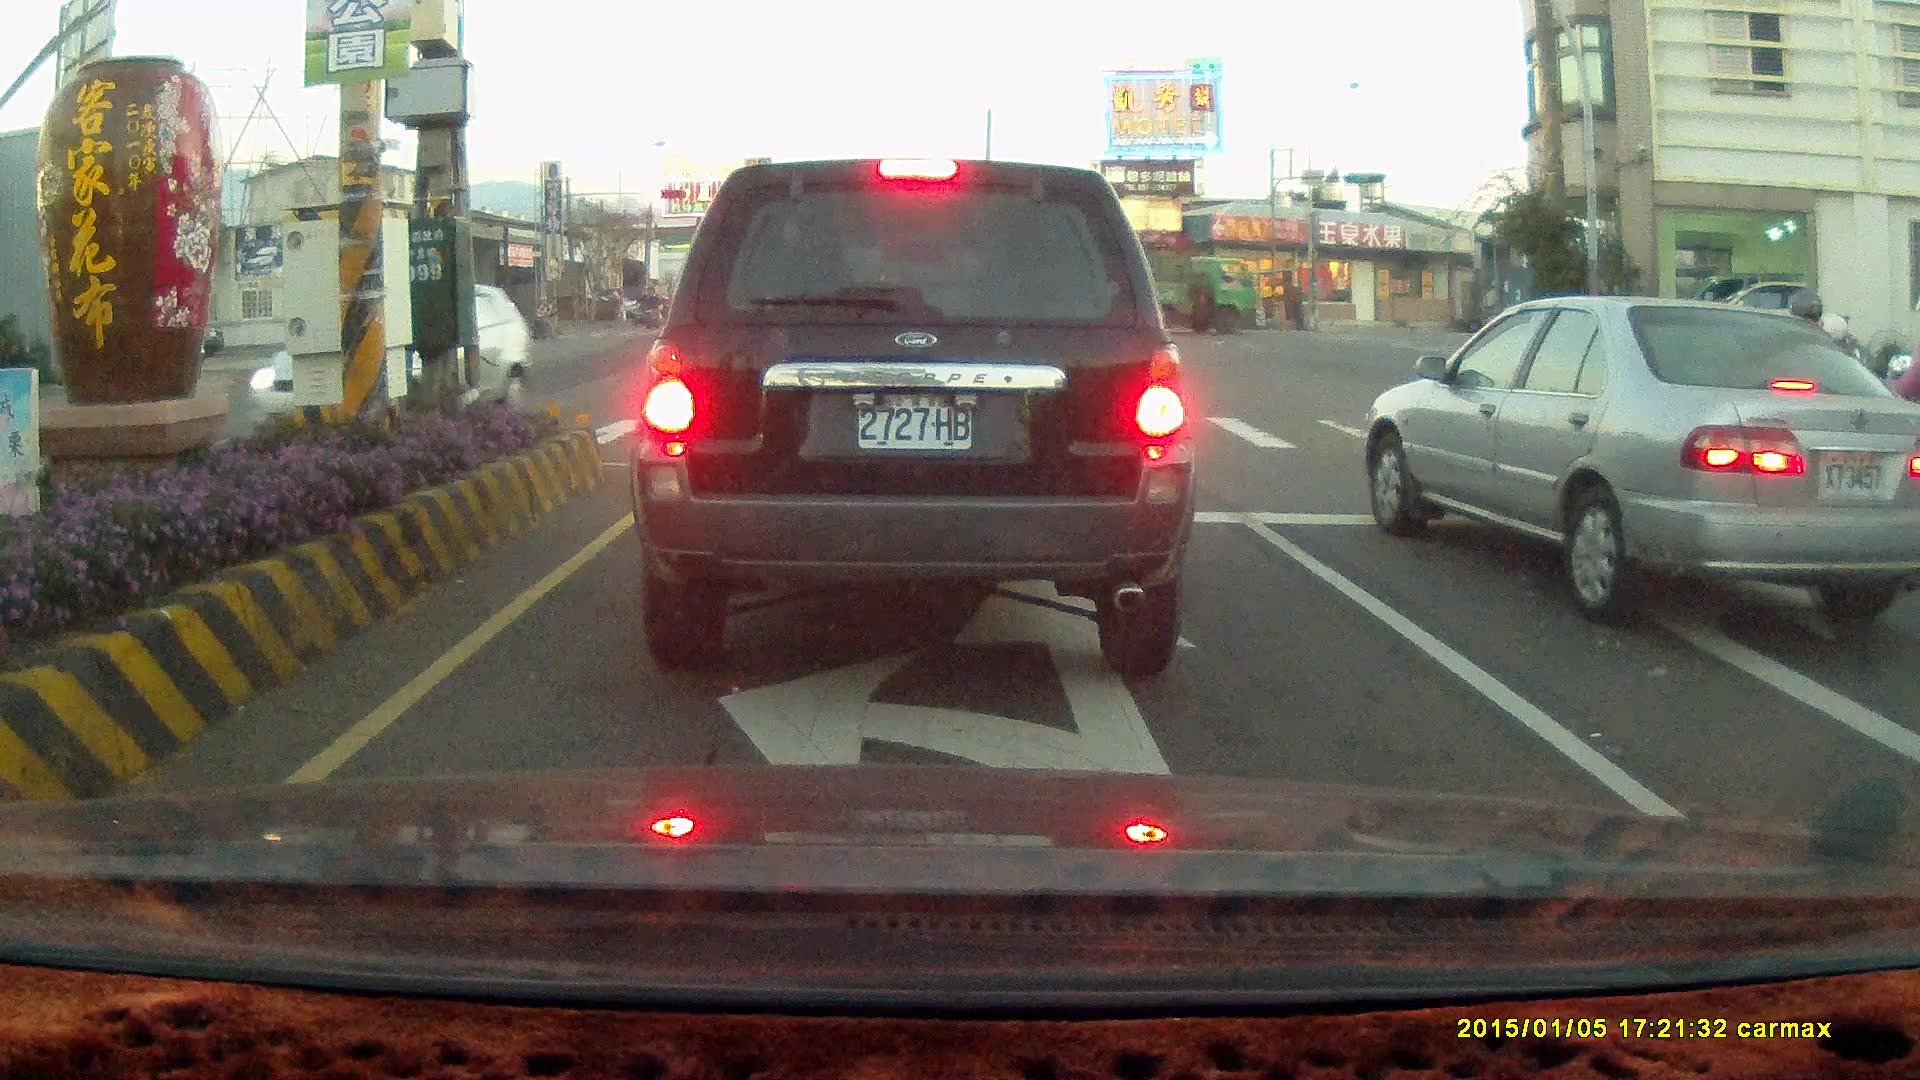rider: (529, 294, 560, 340), (645, 292, 666, 329)
vehicle: (627, 156, 1195, 679), (1353, 293, 1920, 622), (1369, 297, 1920, 609), (248, 284, 535, 437), (681, 243, 920, 379), (1663, 275, 1815, 370), (1098, 254, 1255, 341), (1896, 493, 1920, 836)
